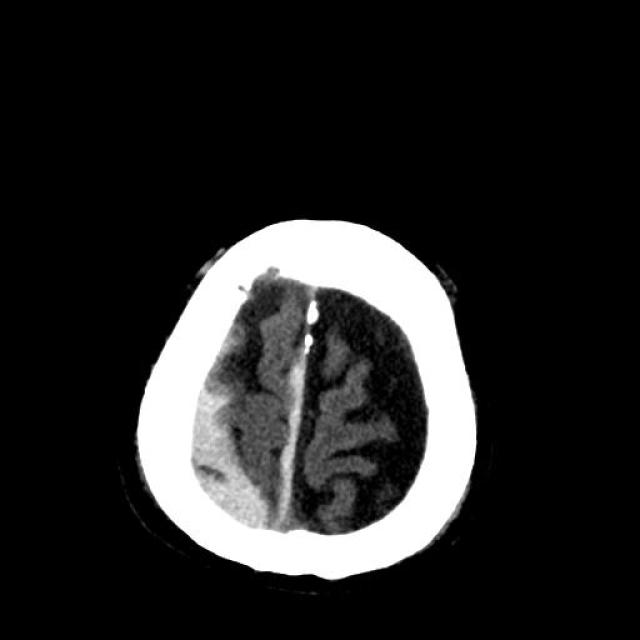Subdural: (175, 371, 266, 545), (262, 354, 322, 561)
